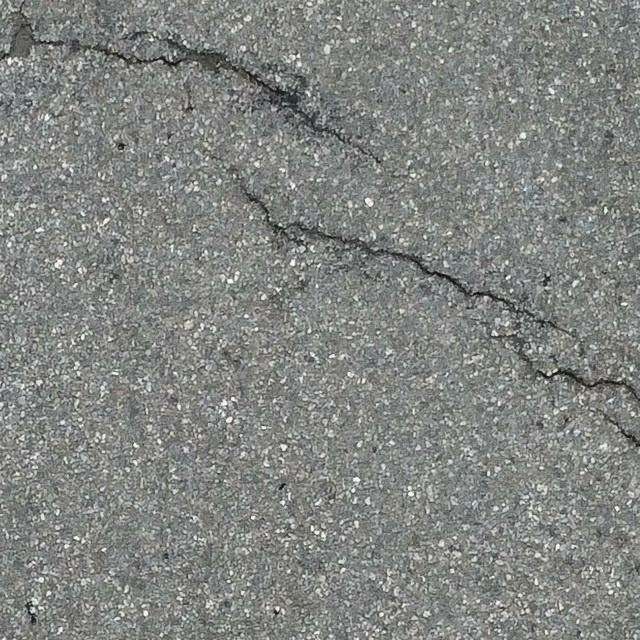TransverseCrack: (223, 163, 578, 337), (2, 14, 383, 163), (536, 364, 640, 401), (598, 411, 640, 449)
